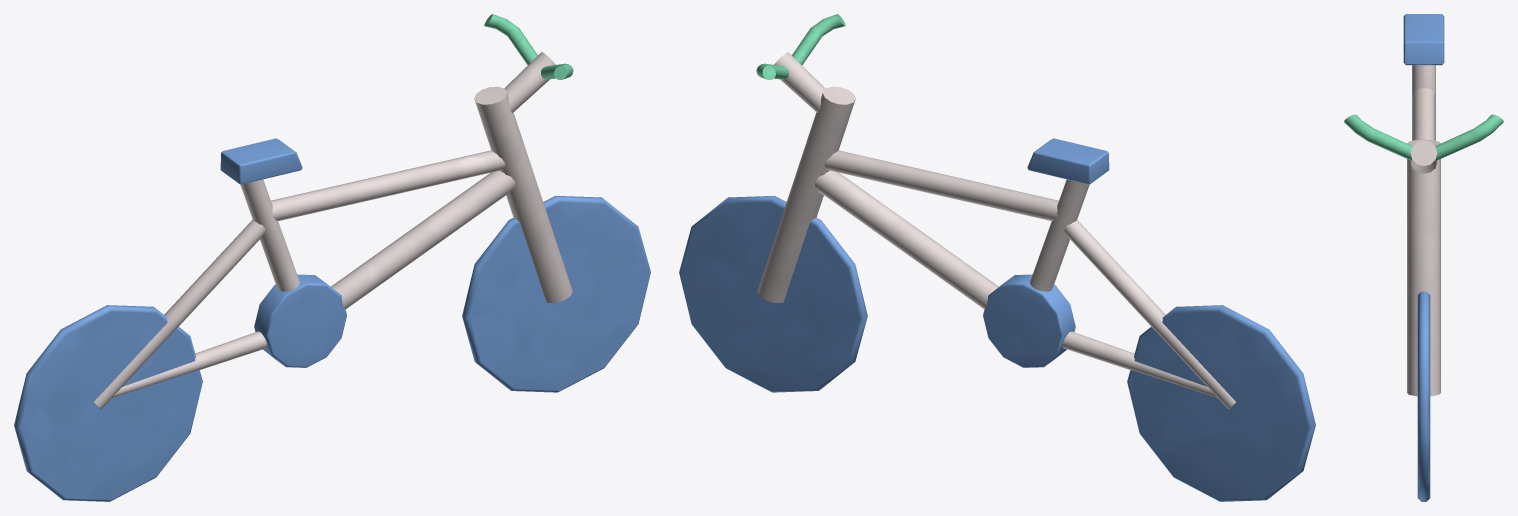
Rendered from Bicycle.fbx.
The picture shows the model from 3 angles, left to right: view 1: azimuth 30°, elevation 25°; view 2: azimuth 150°, elevation 25°; view 3: azimuth 270°, elevation 25°; orthographic projection.
Parts seen in each view (by area): view 1: Bicycle; view 2: Bicycle; view 3: Bicycle.
Part boxes in pixels (x1=…): Bicycle: x1=14, y1=14, x2=650, y2=501; Bicycle: x1=679, y1=14, x2=1315, y2=501; Bicycle: x1=1344, y1=14, x2=1503, y2=501.
Bounding box in the file's own units: 9.8 × 5.29 × 2.11.
